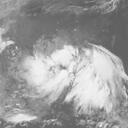cyclone: (28, 44, 124, 109)
